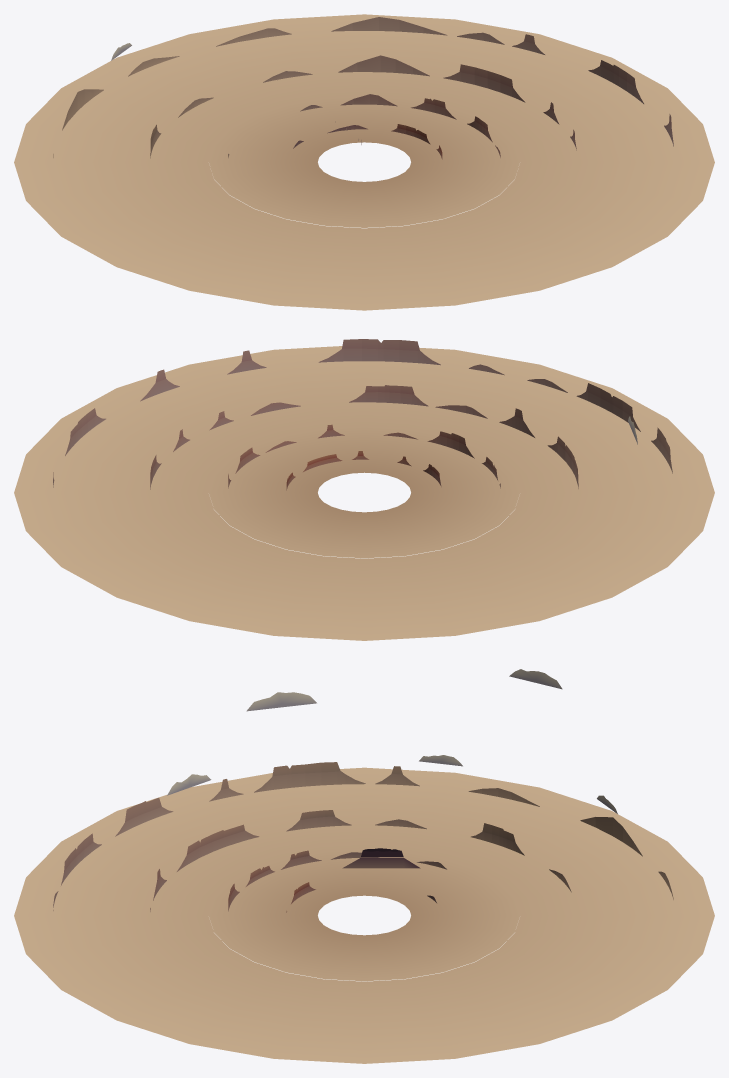
Rendered from env_backdrop_day.glb.
3 renders of one model, top to bottom at view 1: azimuth 30°, elevation 25°; view 2: azimuth 150°, elevation 25°; view 3: azimuth 270°, elevation 25°, orthographic.
Parts seen in each view (by area): view 1: backdrop_day; view 2: backdrop_day; view 3: backdrop_day.
Part boxes in pixels (bbox=[...]): backdrop_day: bbox=[14, 14, 714, 310]; backdrop_day: bbox=[14, 339, 714, 640]; backdrop_day: bbox=[14, 669, 714, 1063].
Size of the model in its own units: 1800 by 340 by 1800.
